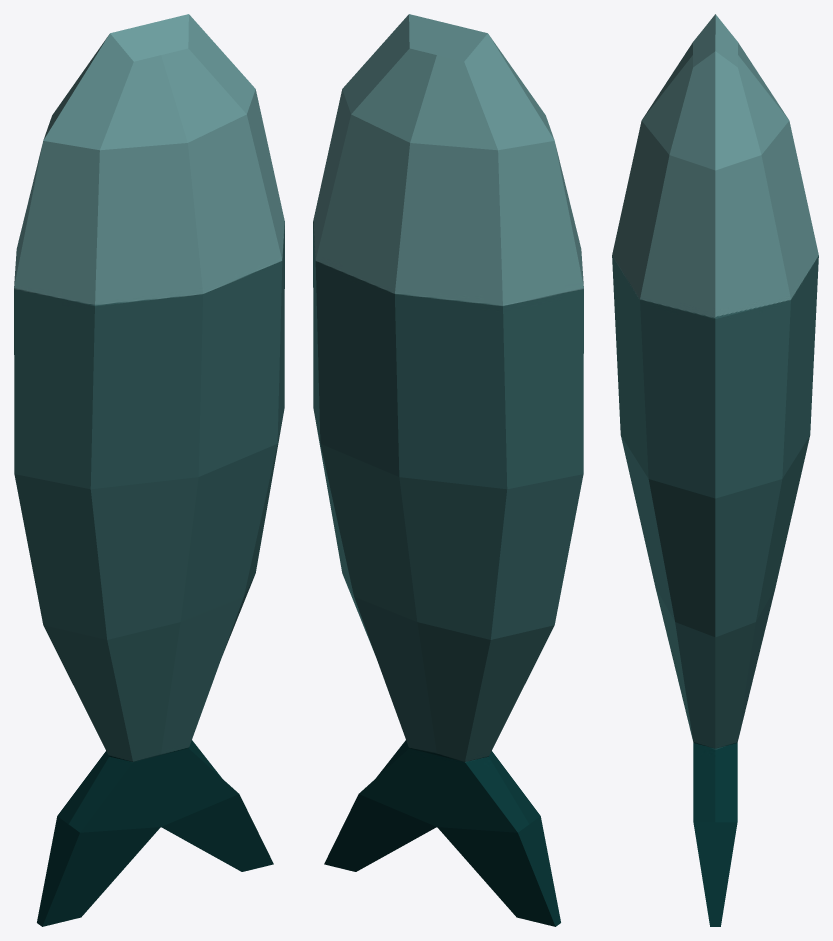
The model's file is Fish-BASIC_01.FBX.
3 renders of one model, left to right at view 1: azimuth 30°, elevation 25°; view 2: azimuth 150°, elevation 25°; view 3: azimuth 270°, elevation 25°, orthographic. The views are drawn at different scales.
Parts seen in each view (by area): view 1: Fish-BASIC_01; view 2: Fish-BASIC_01; view 3: Fish-BASIC_01.
Part boxes in pixels (x1,y1,x2,y2): Fish-BASIC_01: (14, 14, 284, 926); Fish-BASIC_01: (313, 14, 583, 926); Fish-BASIC_01: (612, 14, 818, 926).
Bounding box in the file's own units: 9.48 × 29.25 × 6.51.
